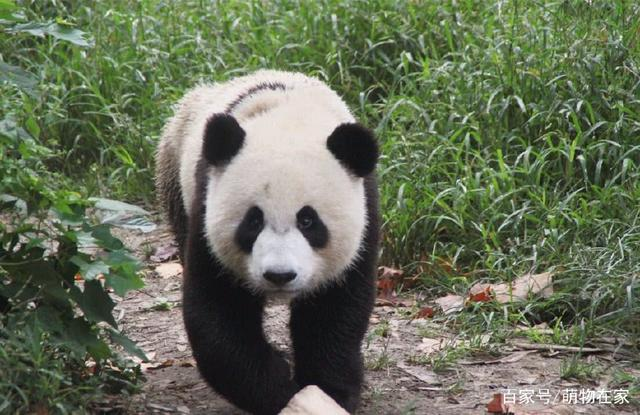panda: (138, 66, 410, 408)
